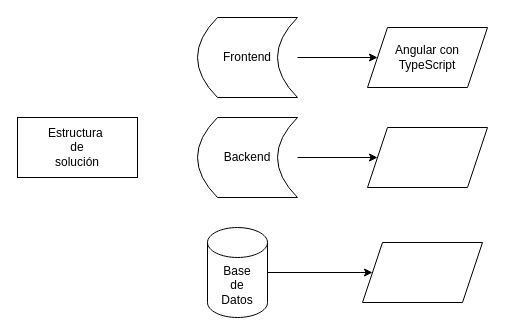
Image size: 505x335. Some labels were removed from this diagram. Here are the shapes that lost their labels. From the top down, the box of each, then its label:
(366, 126, 488, 188): Spring con Java
(362, 242, 482, 302): Mysql
